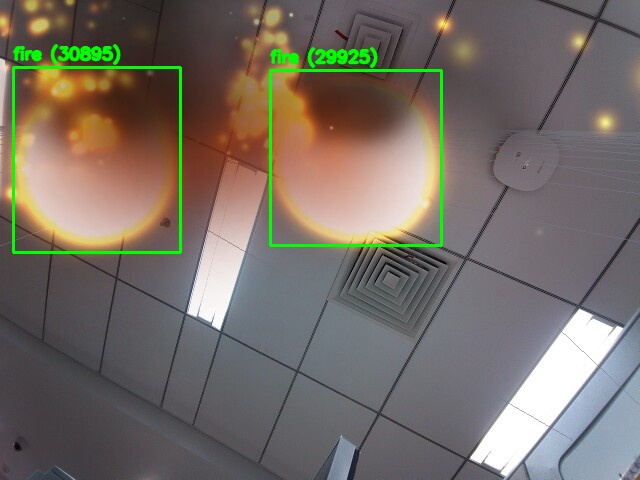fire: (13, 67, 180, 252), (270, 70, 441, 245)
